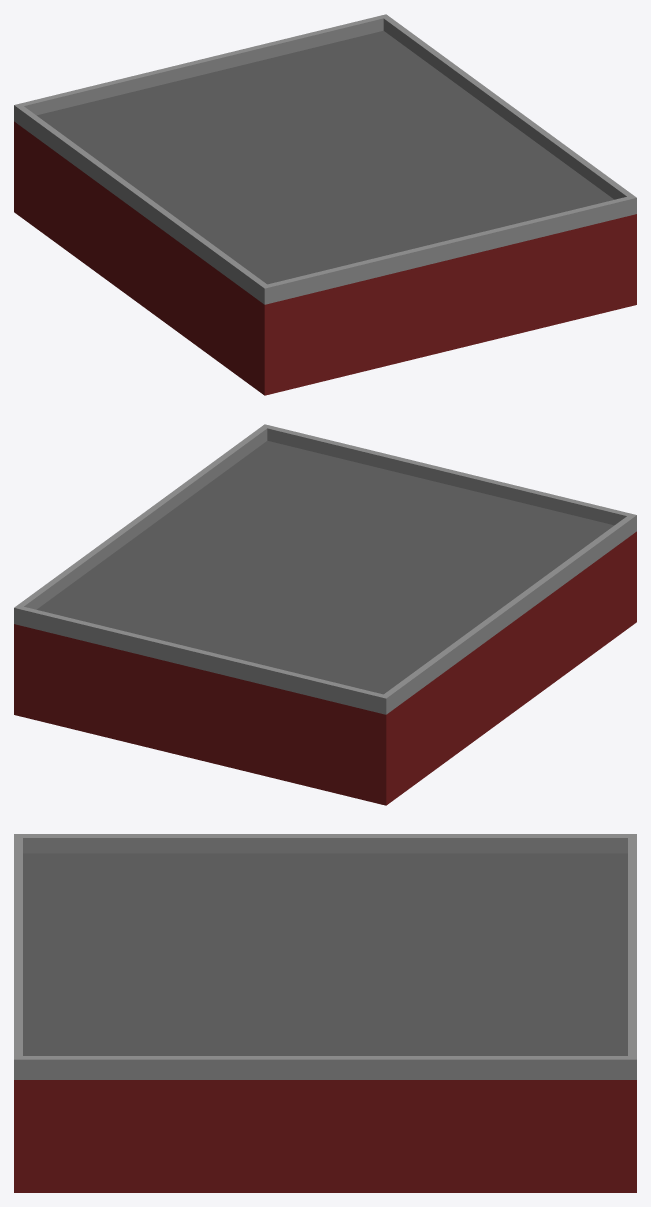
File: Building_30_35_70.FBX
3 views of the same model, one above another, from view 1: azimuth 30°, elevation 25°; view 2: azimuth 150°, elevation 25°; view 3: azimuth 270°, elevation 25° (orthographic). The views are drawn at different scales.
Visible parts, largest first — view 1: BakedBuilding_2014741032842158; view 2: BakedBuilding_2014741032842158; view 3: BakedBuilding_2014741032842158.
Boxes of the visible parts, left/top/right/bottom form: BakedBuilding_2014741032842158: left=14, top=14, right=636, bottom=395; BakedBuilding_2014741032842158: left=14, top=424, right=636, bottom=805; BakedBuilding_2014741032842158: left=14, top=834, right=636, bottom=1192.
Size of the model in its own units: 3000 by 825 by 3500.
